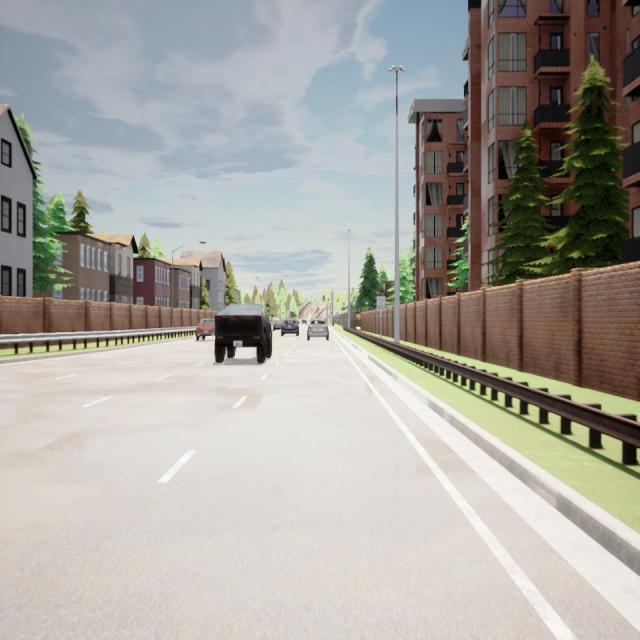Traffic_Signs: (377, 296, 385, 310)
Vehicle: (215, 304, 272, 363), (307, 318, 329, 341), (196, 318, 214, 342), (281, 318, 299, 336), (272, 320, 282, 330), (302, 318, 307, 324)
